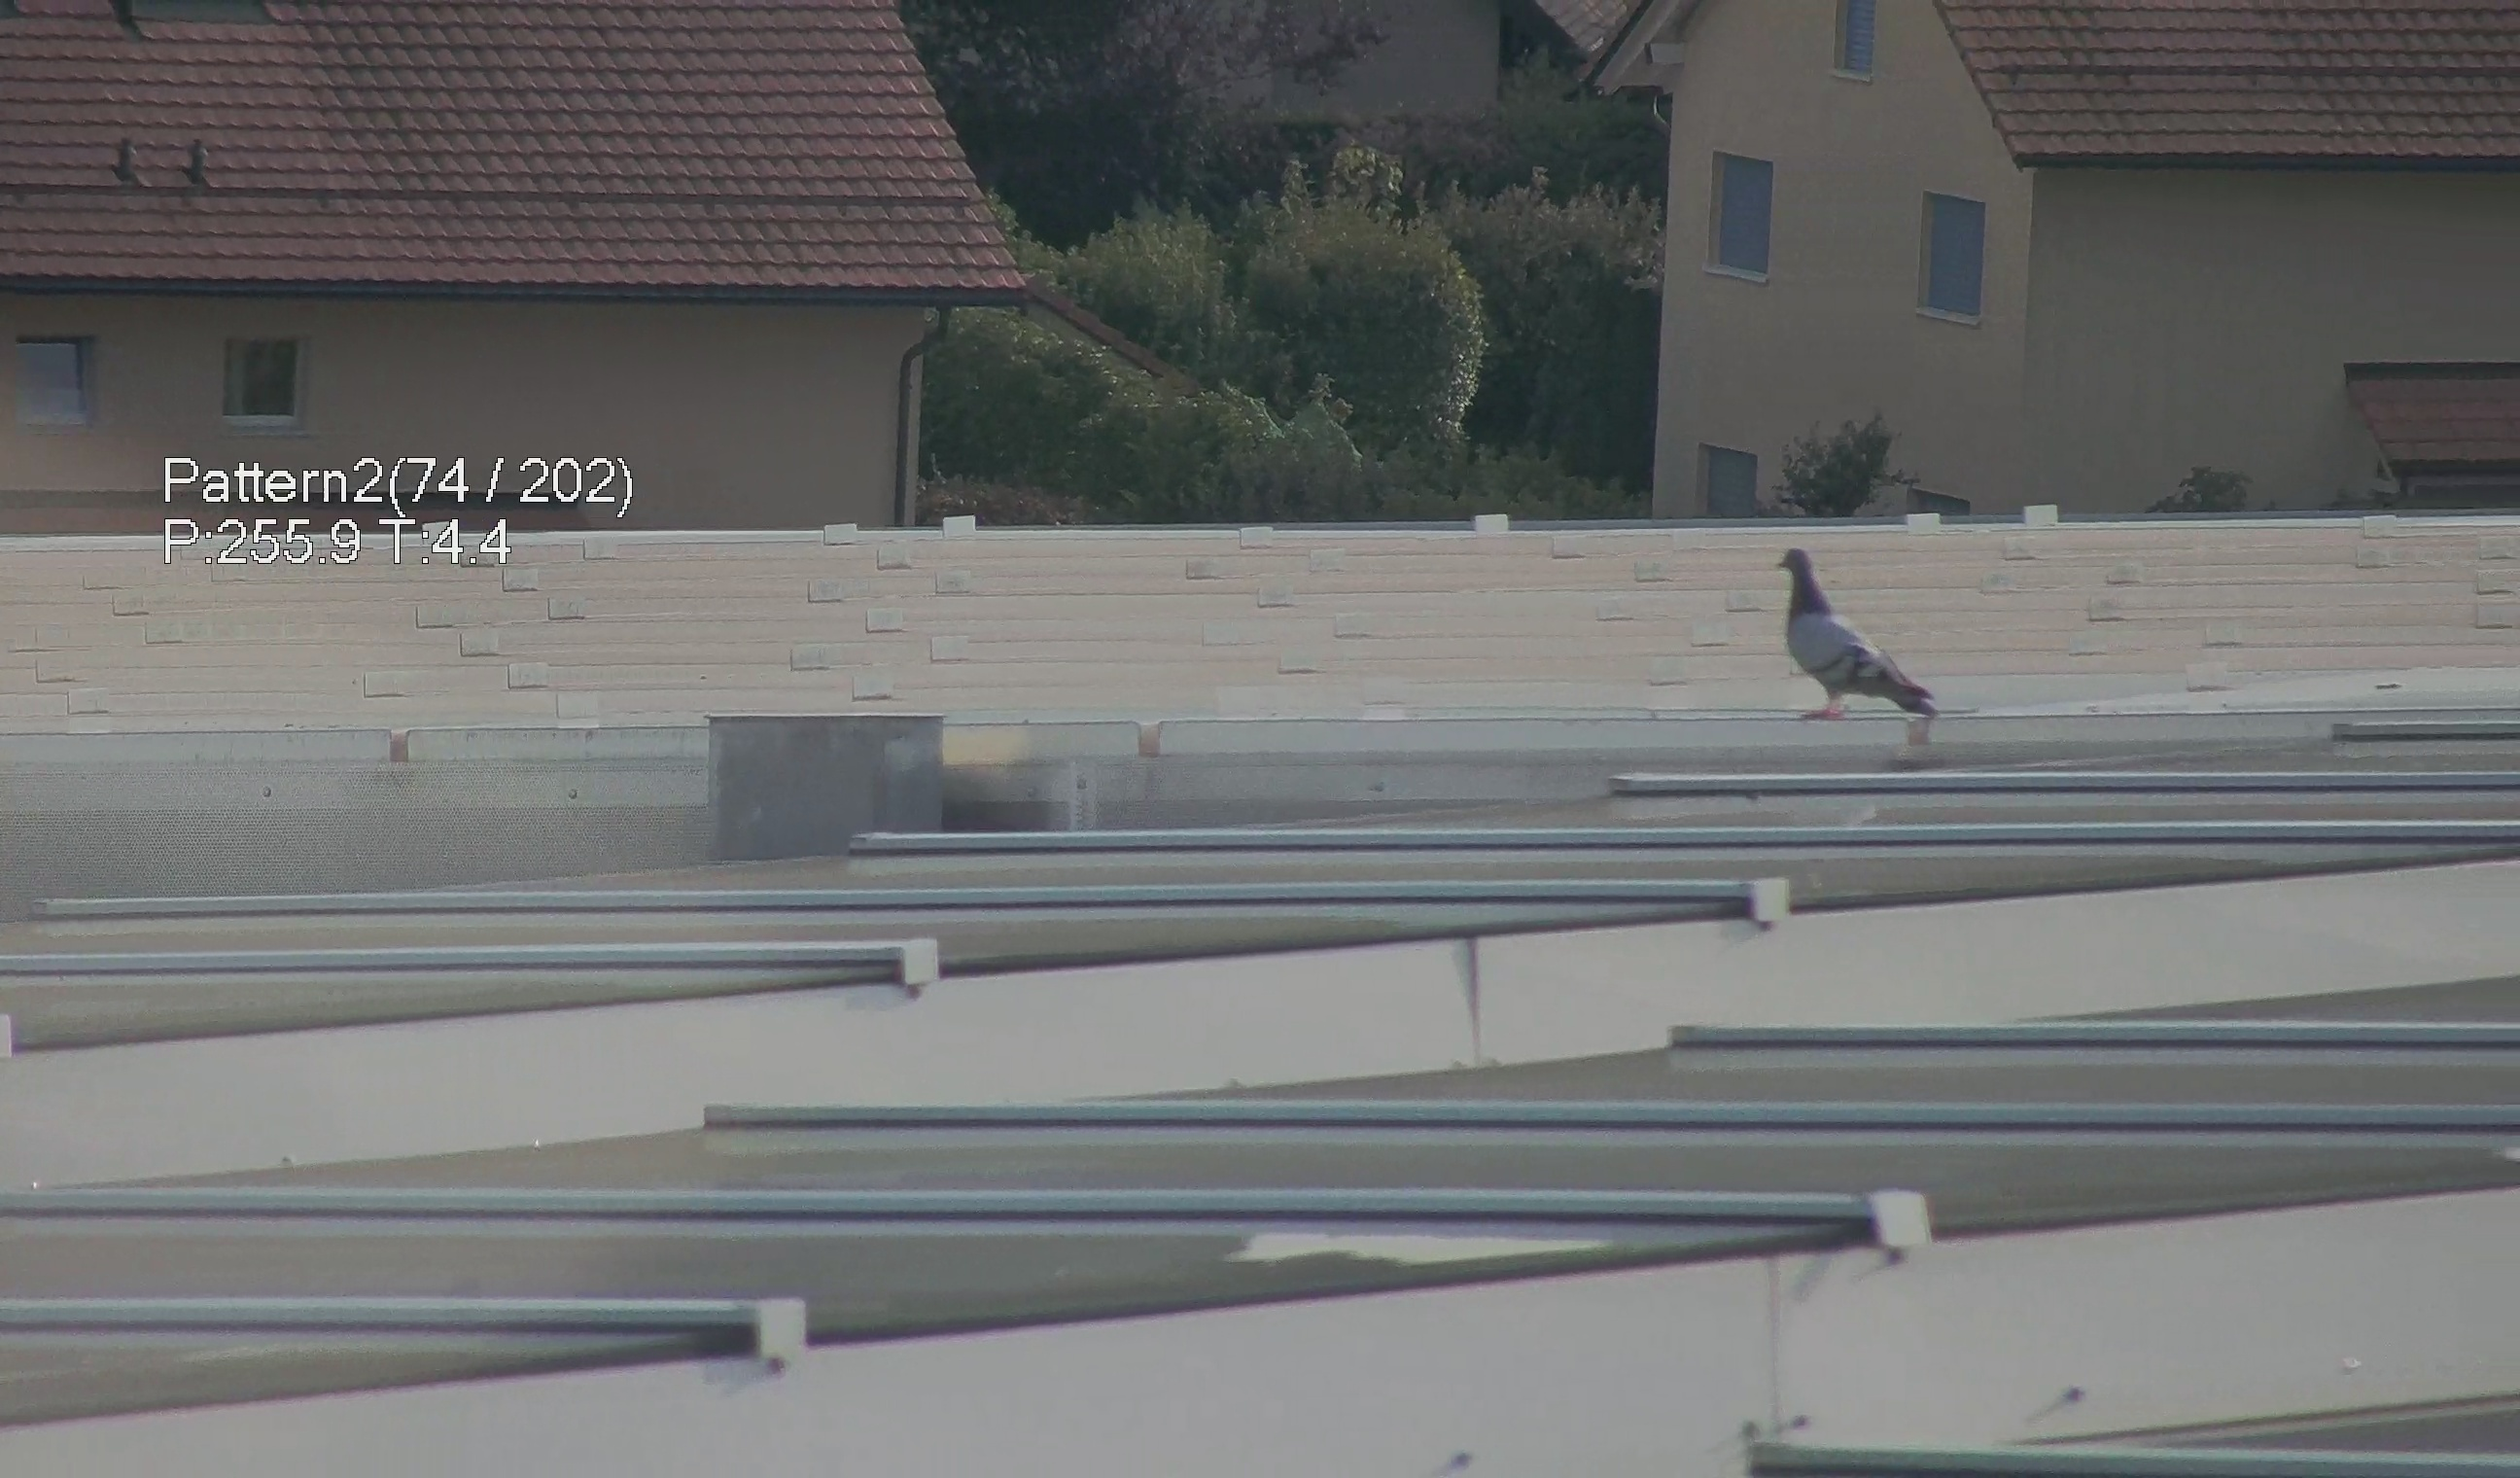Pigeon: (1767, 542, 1954, 735)
